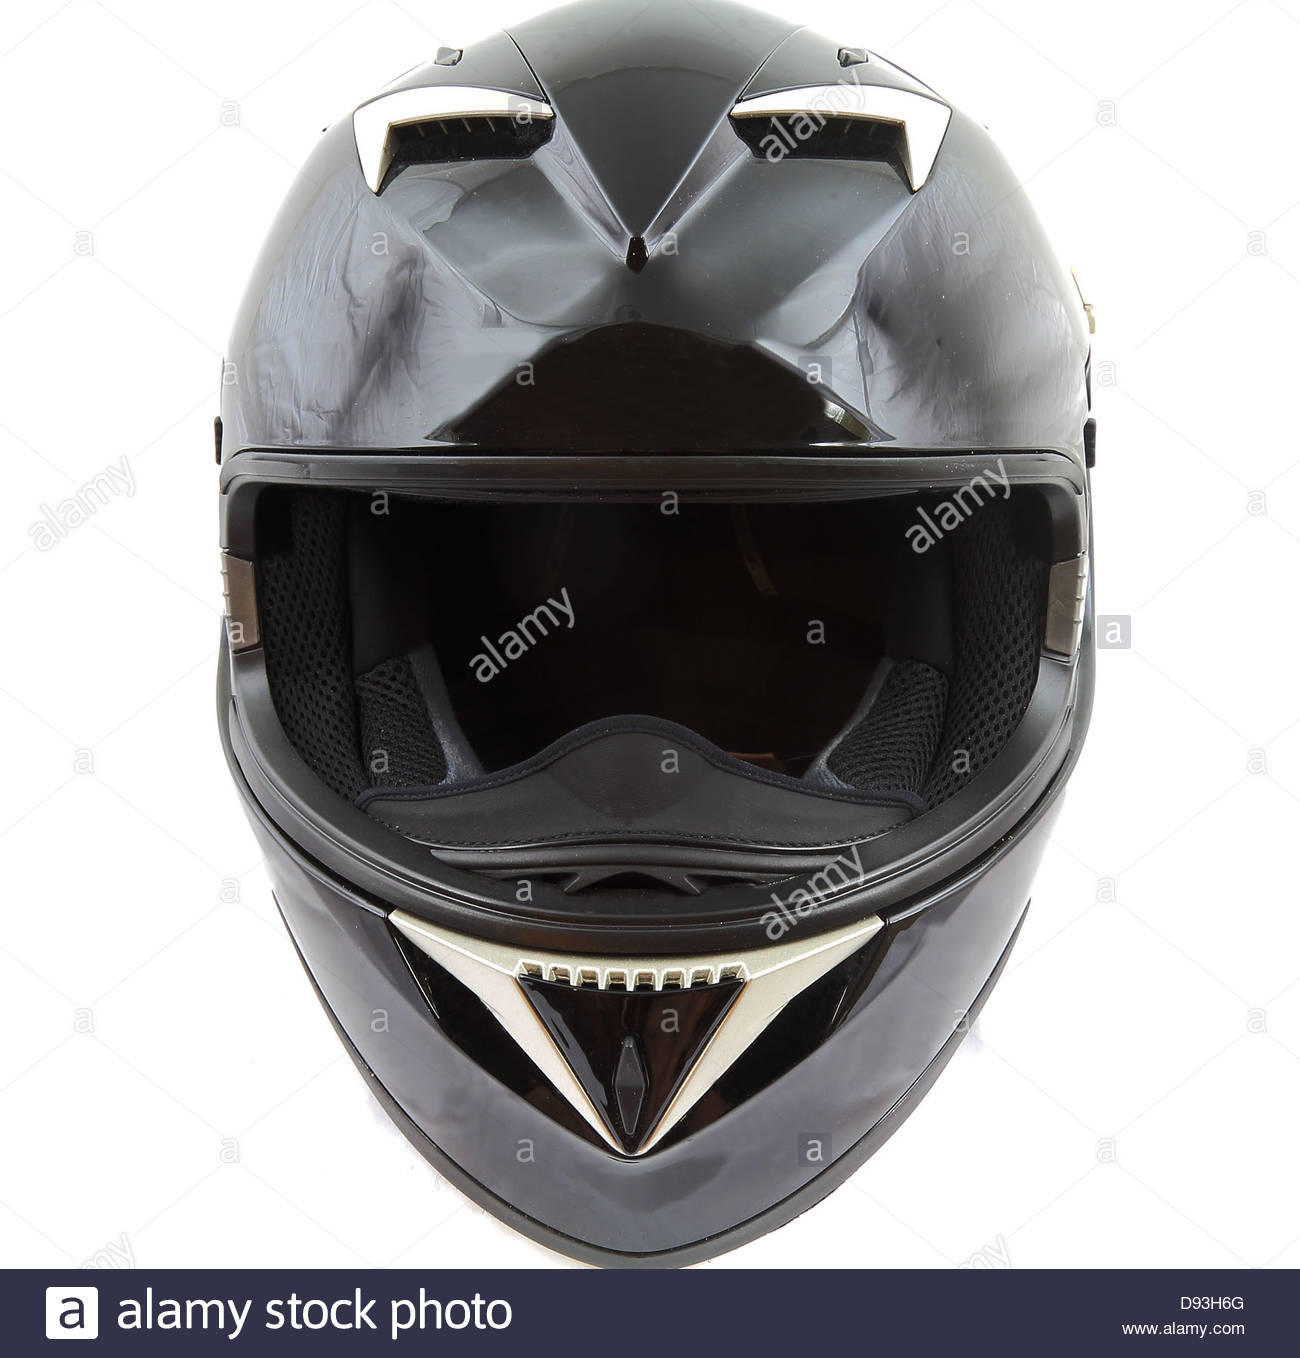with_helmet: (186, 2, 1124, 1269)
